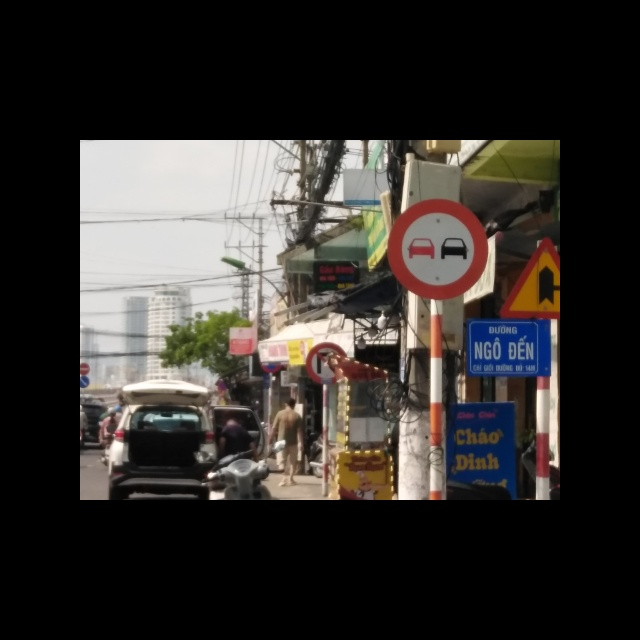Cấm vượt: (384, 196, 487, 300)
Giao nhau với đường không ưu tiên: (498, 236, 559, 321)
